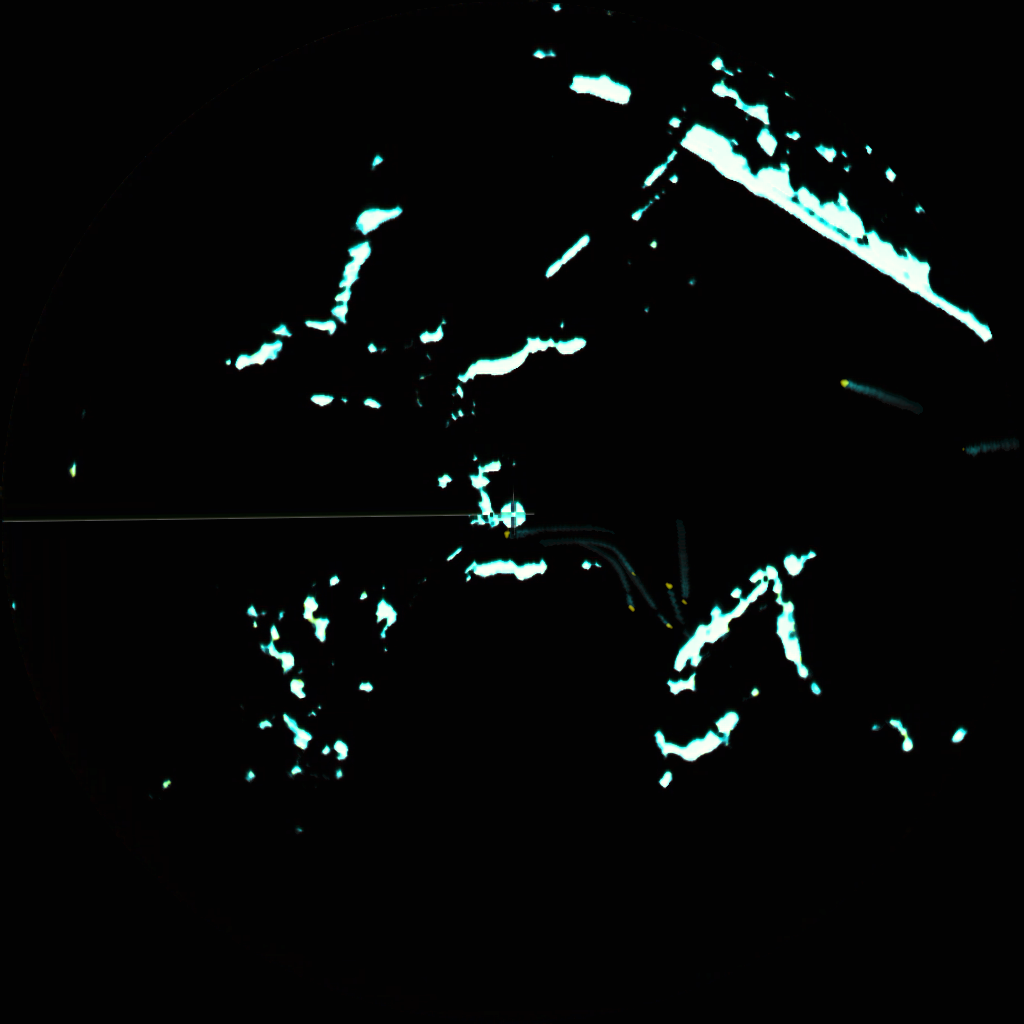B: (842, 376, 901, 407), (643, 586, 675, 629), (604, 541, 638, 577), (960, 438, 1014, 458), (663, 578, 684, 624), (616, 567, 636, 614), (504, 527, 568, 541), (678, 561, 692, 607)
